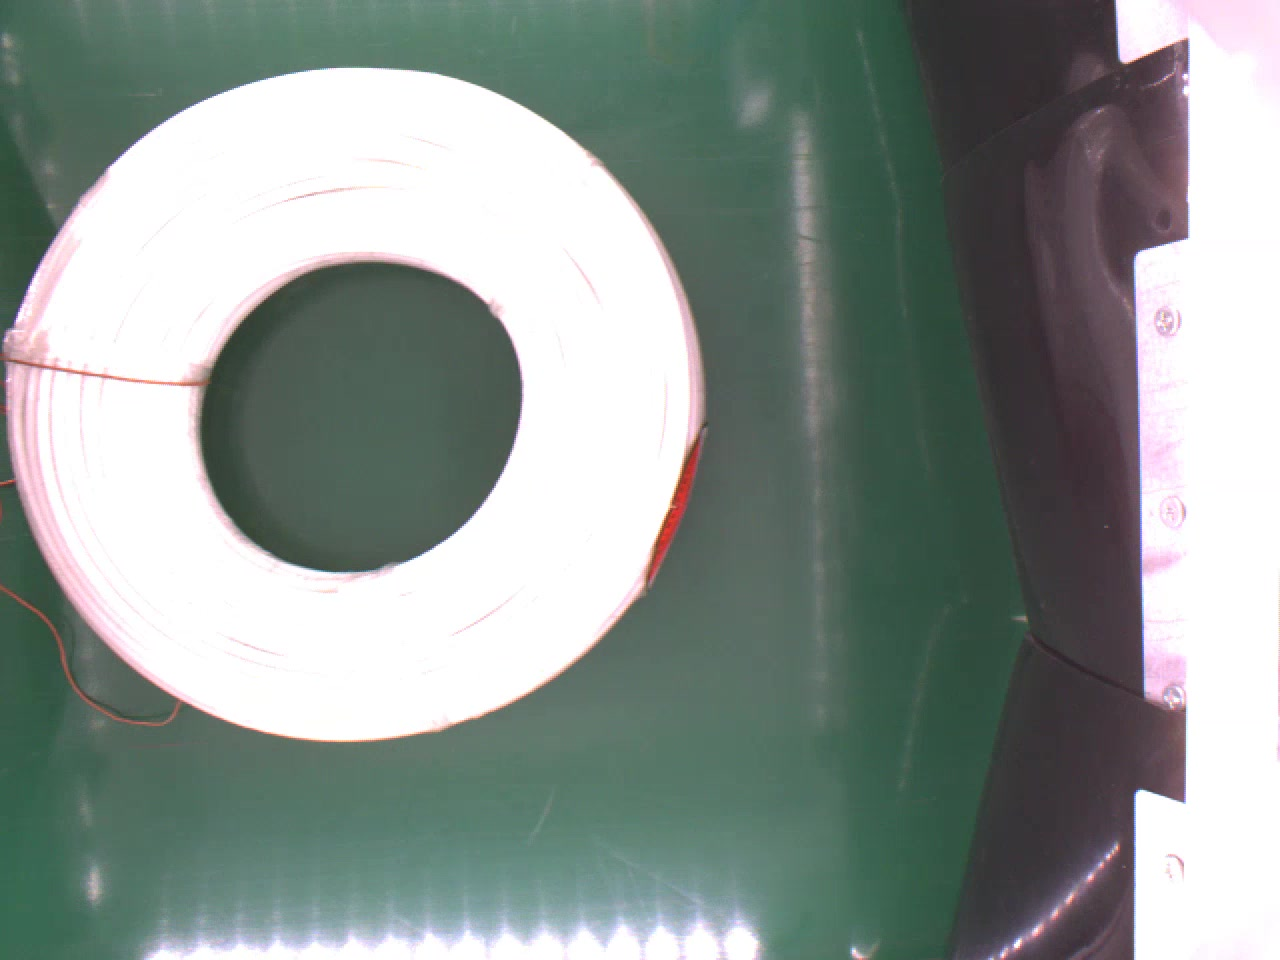white: (0, 66, 702, 737)
